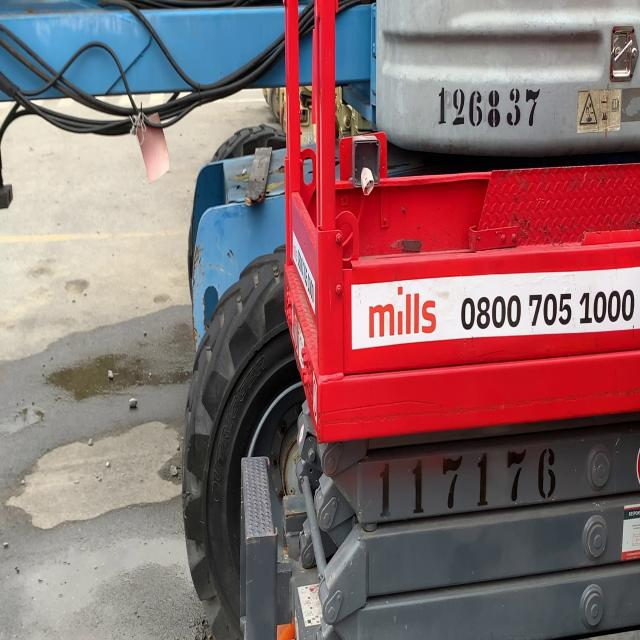Adesivo Longo: (350, 269, 640, 356)
